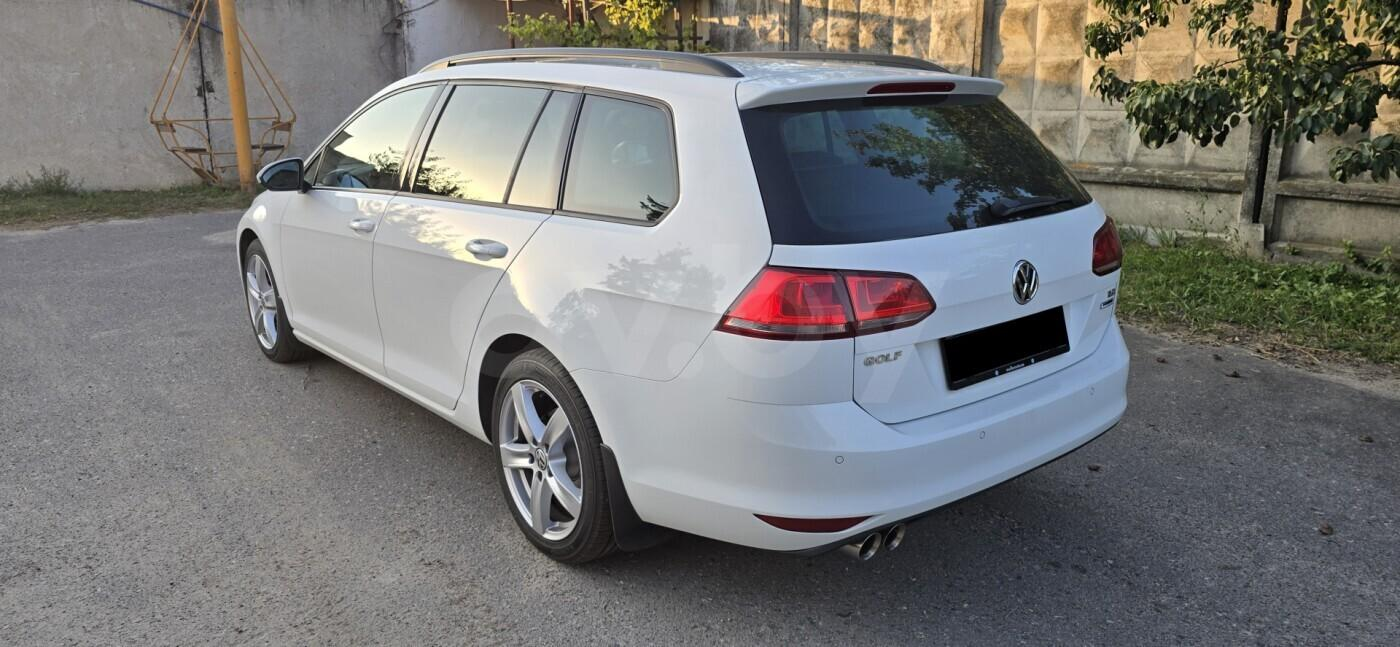Golf_2012-2017: (230, 46, 1132, 570)
